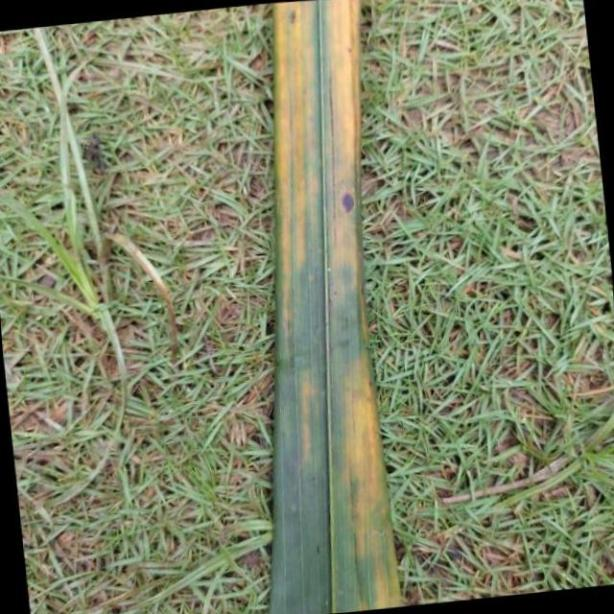Megnesium: (271, 3, 404, 614)
